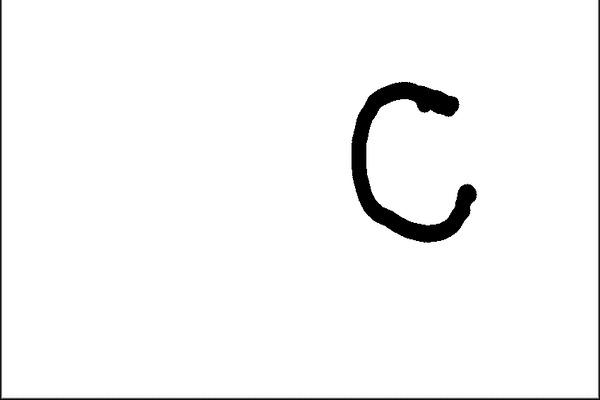C: (345, 77, 482, 244)
